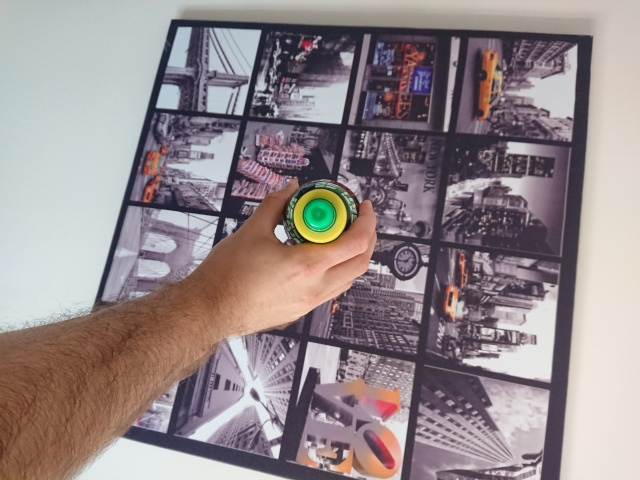Vindi Iso Sport Lemon-Grapefruit 500mL: (280, 176, 367, 260)
